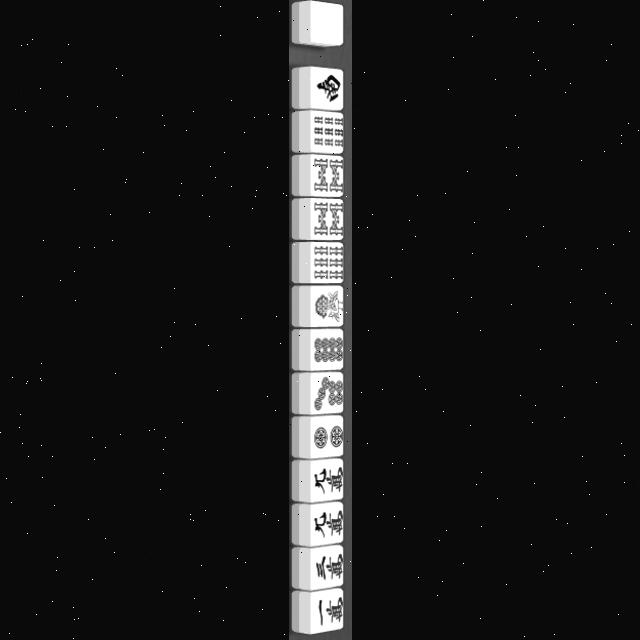1m: (290, 590, 342, 632), (296, 547, 342, 589)
1s: (298, 287, 342, 327)
2p: (300, 418, 342, 456)
6s: (296, 243, 344, 280)
7p: (296, 376, 342, 412)
8p: (295, 329, 343, 369)
8s: (296, 200, 344, 238), (294, 158, 342, 195)
9m: (296, 460, 344, 500), (294, 505, 342, 545)
9s: (292, 112, 344, 150)
haku: (292, 1, 342, 45)
nan: (294, 66, 342, 108)
